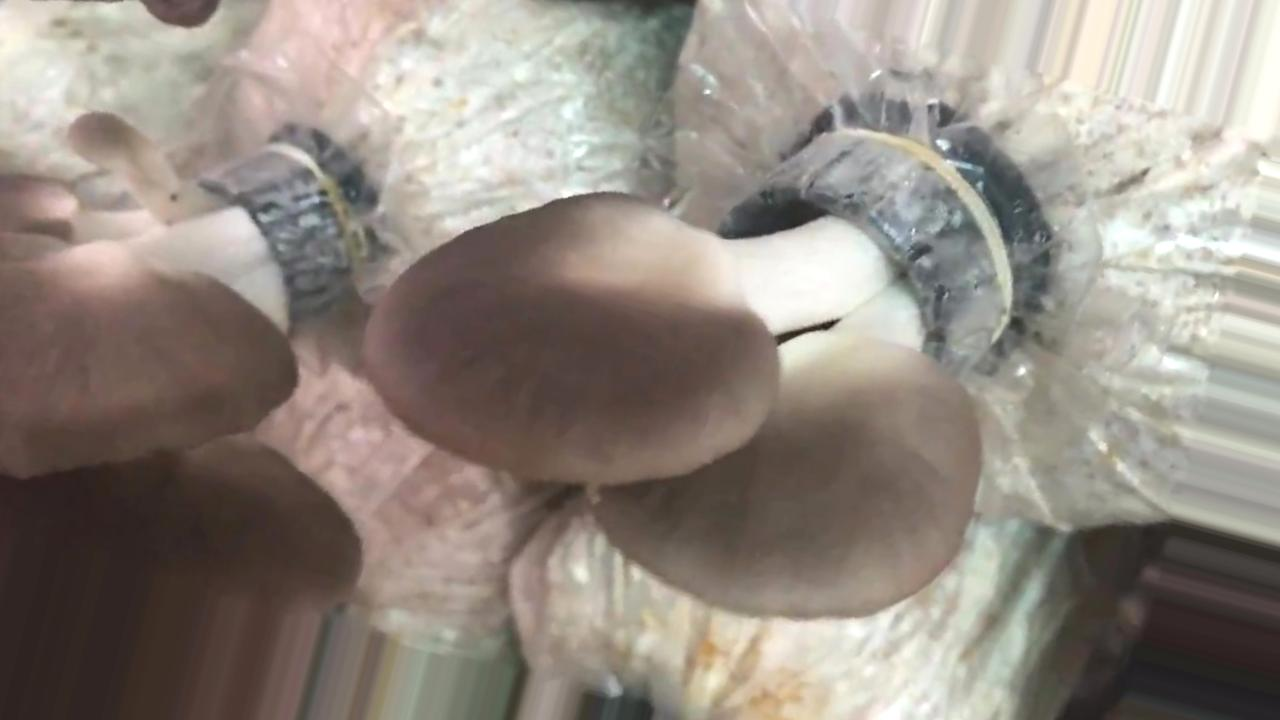nam: (367, 131, 1003, 617), (1, 112, 364, 720)
